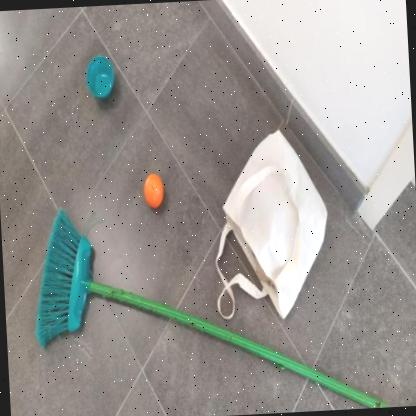bag: (200, 124, 344, 334)
